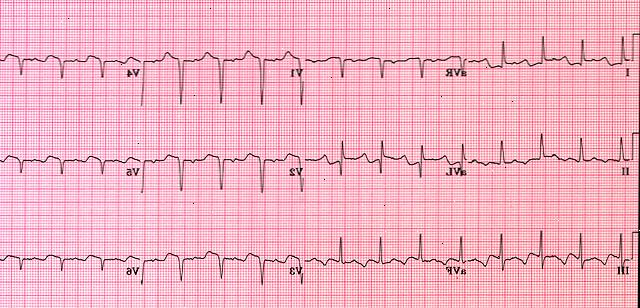Lead_I: (467, 31, 634, 86)
Lead_II: (467, 127, 635, 184)
Lead_III: (467, 228, 634, 282)
Lead_V1: (140, 40, 308, 108)
Lead_V2: (139, 140, 306, 198)
Lead_V3: (140, 241, 307, 292)
Lead_V4: (0, 42, 141, 86)
Lead_V5: (0, 141, 143, 186)
Lead_V6: (0, 241, 144, 289)
Lead_aVF: (303, 226, 469, 284), (304, 228, 469, 278)
Lead_aVL: (304, 136, 470, 184)
Lead_aVR: (304, 41, 470, 90)
